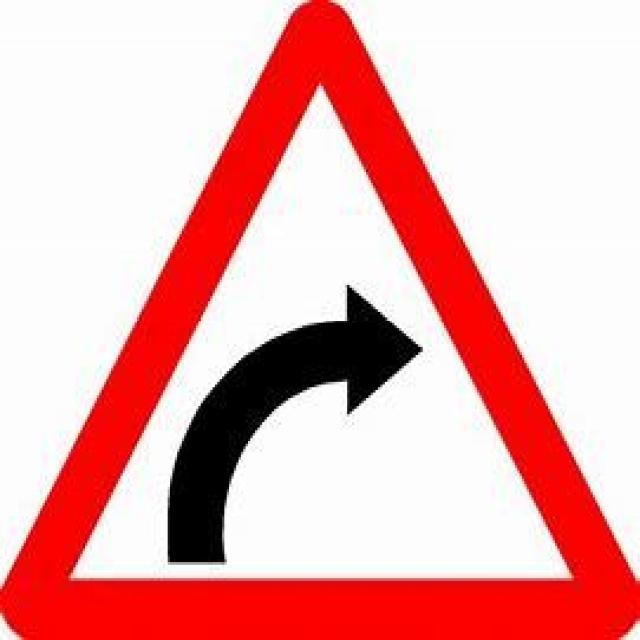right hand curve: (16, 18, 624, 618)
